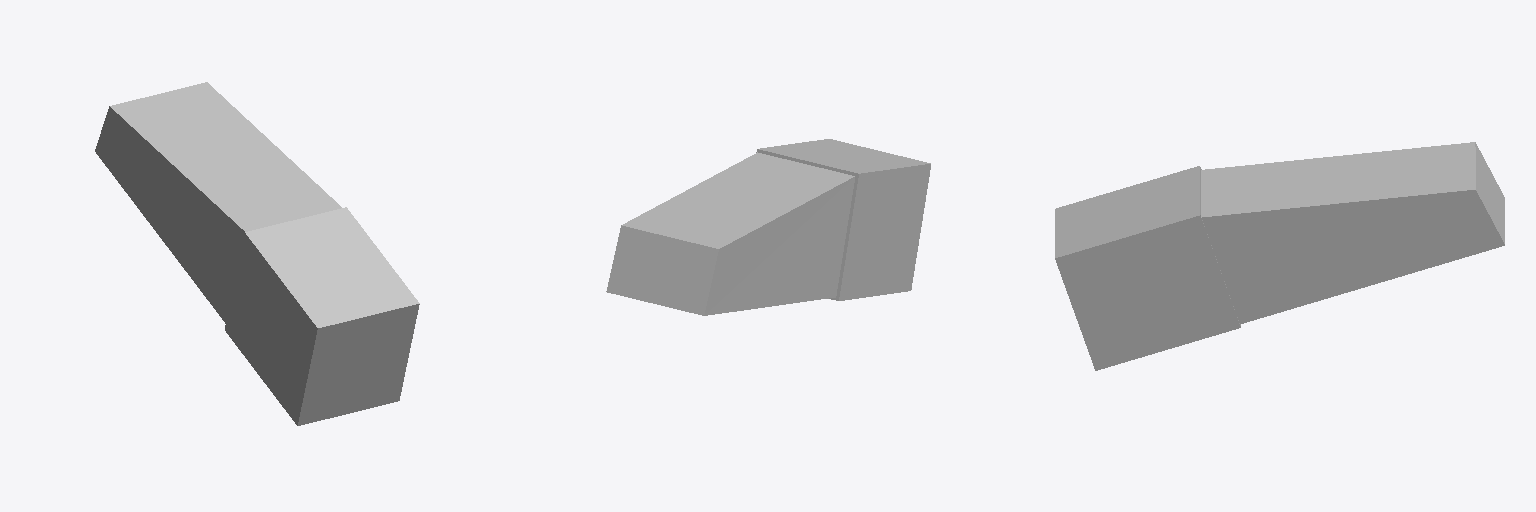
Rendered from hand_000.obj.
3 views of the same model, side by side, from view 1: azimuth 30°, elevation 25°; view 2: azimuth 150°, elevation 25°; view 3: azimuth 270°, elevation 25° (orthographic).
Visible parts, largest first — view 1: Куб; view 2: Куб; view 3: Куб.
Part boxes in pixels (left/top/right/bottom): Куб: left=95, top=82, right=419, bottom=425; Куб: left=606, top=139, right=930, bottom=315; Куб: left=1055, top=142, right=1504, bottom=370.
Size of the model in its own units: 0.2006 by 0.338 by 0.7648.